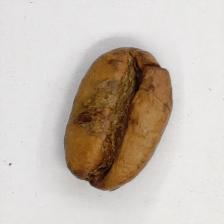NG: (74, 45, 145, 181)
